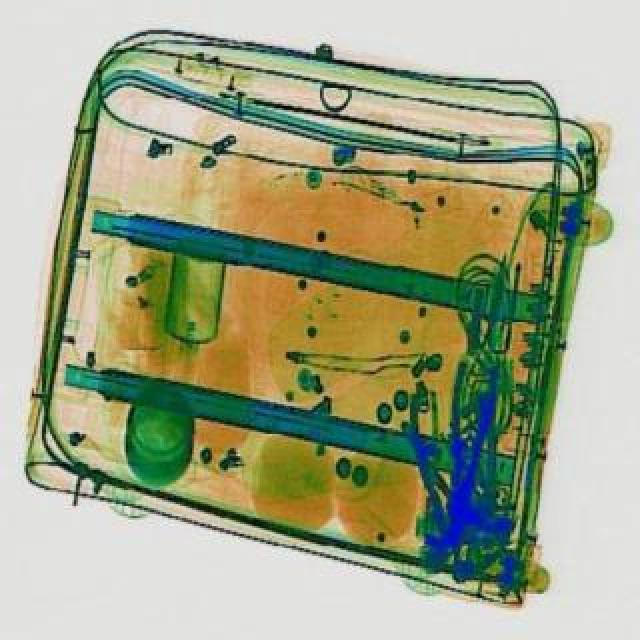wrench: (434, 358, 502, 510)
